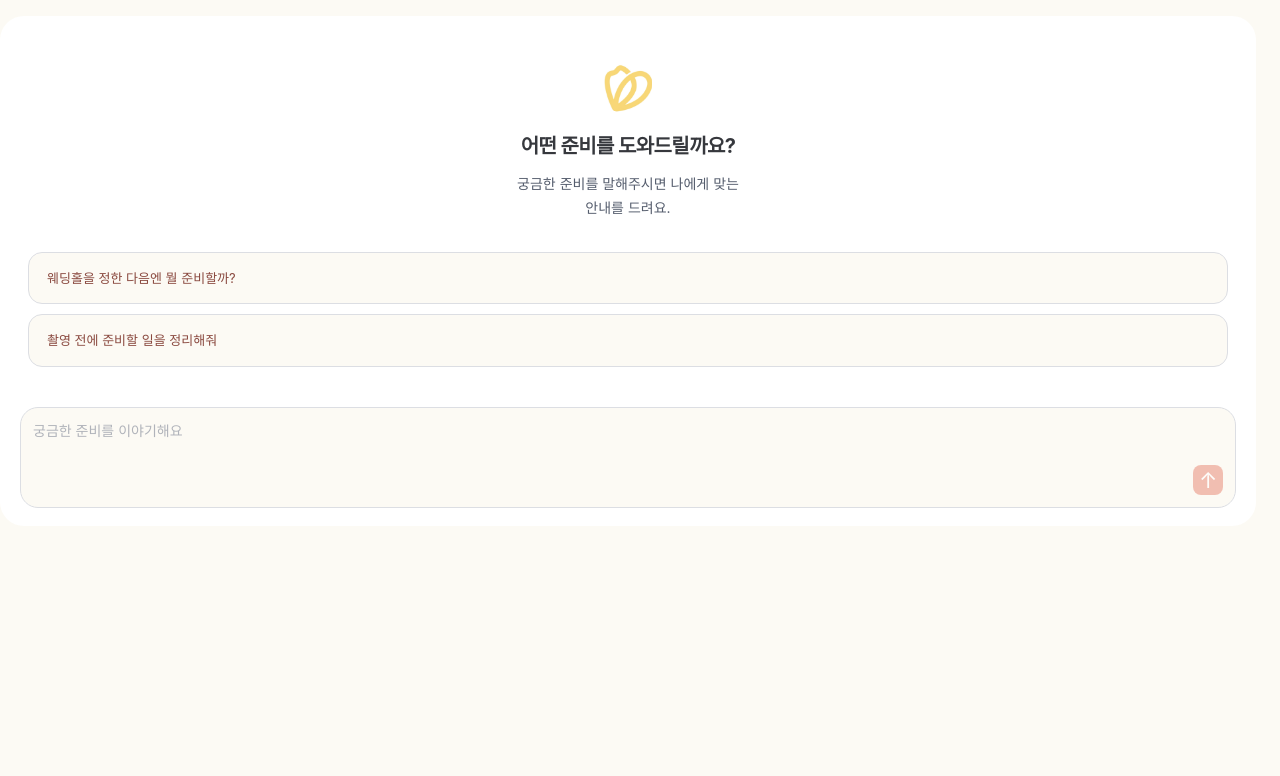
Test: AI 추천 카드 연결 › 저장 실패 후 현재 카드를 복구하고 저장 API만 재시도한다
This screenshot has width=1280, height=776.
Type "추천해줘" into the text box at coordinates (628, 443), box [33,420,1223,465]
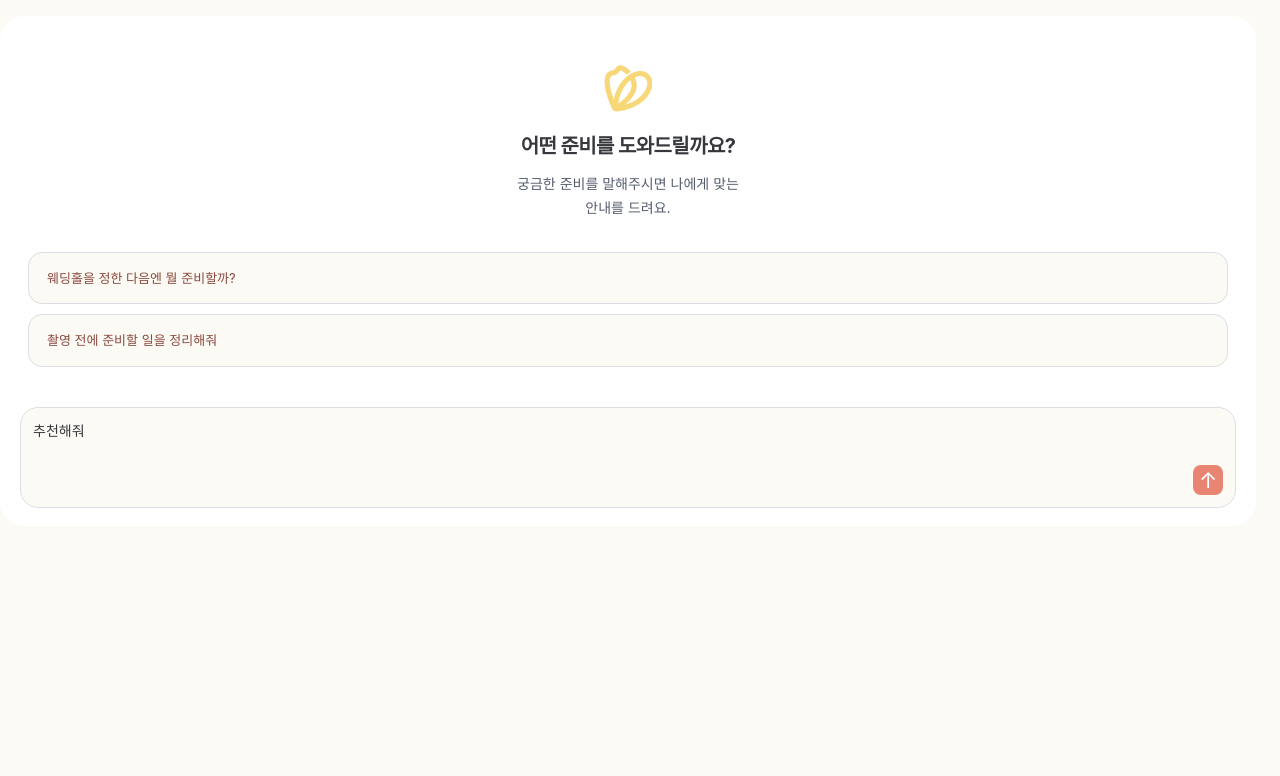
Click the button named "메시지 전송" at coordinates (1208, 480), box [1193,465,1223,495]
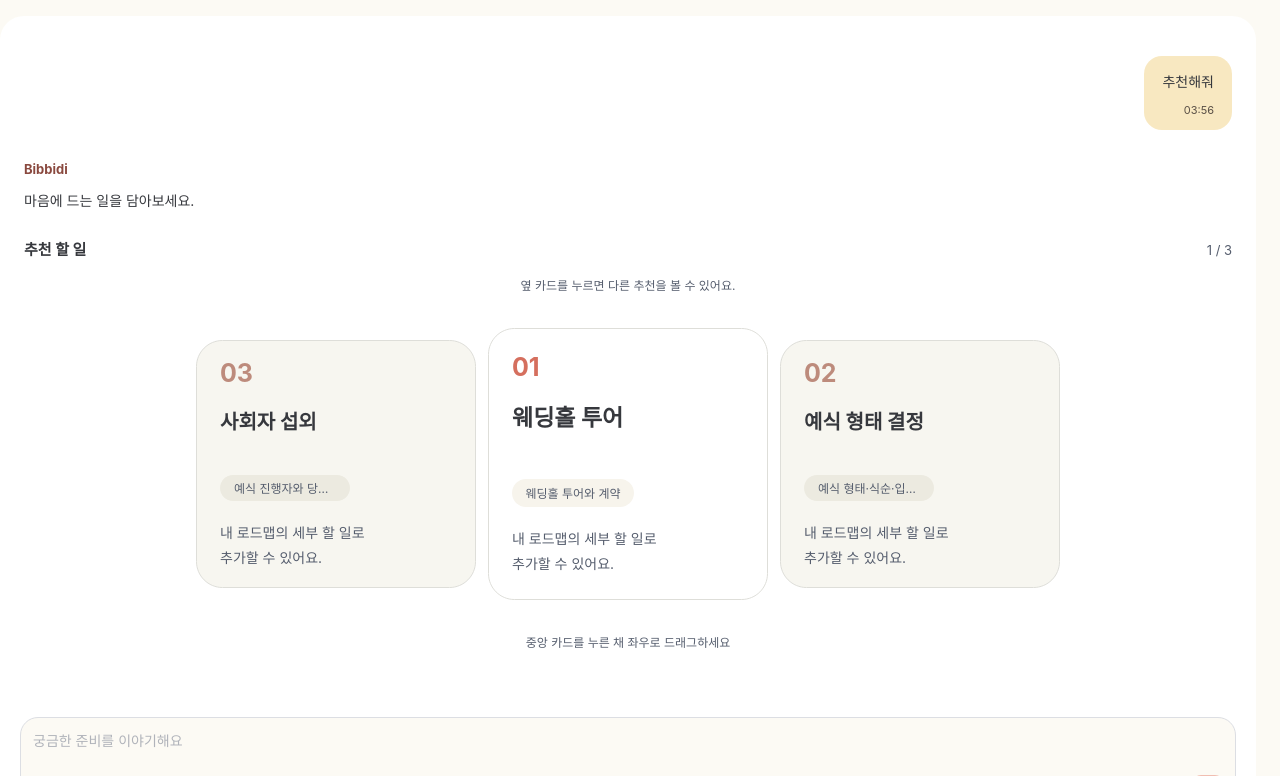
Click the button with aria-label "현재 추천: 웨딩홀 투어" at coordinates (628, 464), box [488,328,768,600]
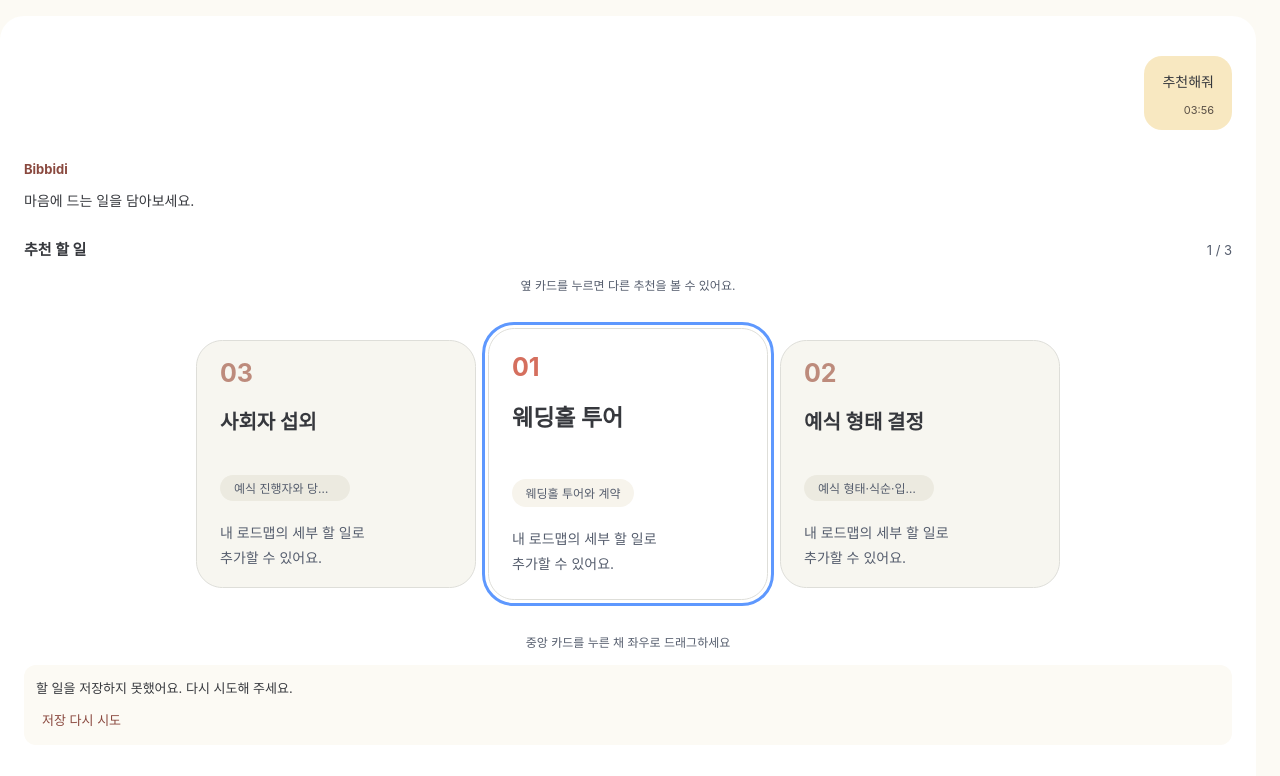
Expected: the button with aria-label "현재 추천:" is enabled, [488,328,768,600]
Expected: the button "저장 다시 시도" is shown
Click the button "저장 다시 시도" at coordinates (82, 720), box [36,708,127,733]
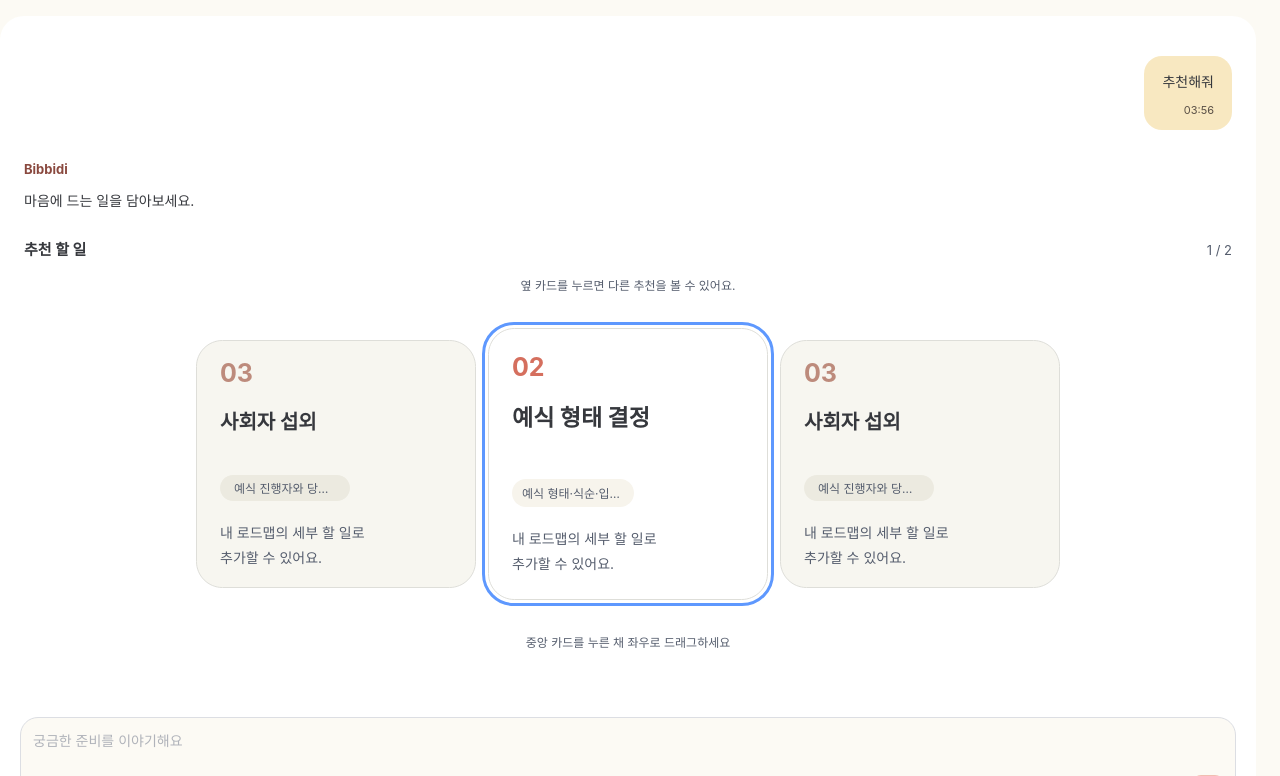
Expected: the button with aria-label "현재 추천: 예식 형태 결정" is shown, [488,328,768,600]
